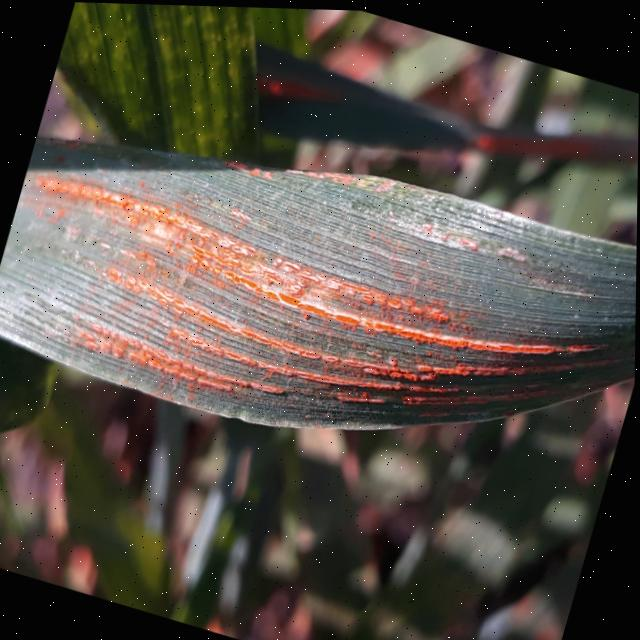yellow_rust: (0, 66, 639, 529), (222, 5, 640, 216)
